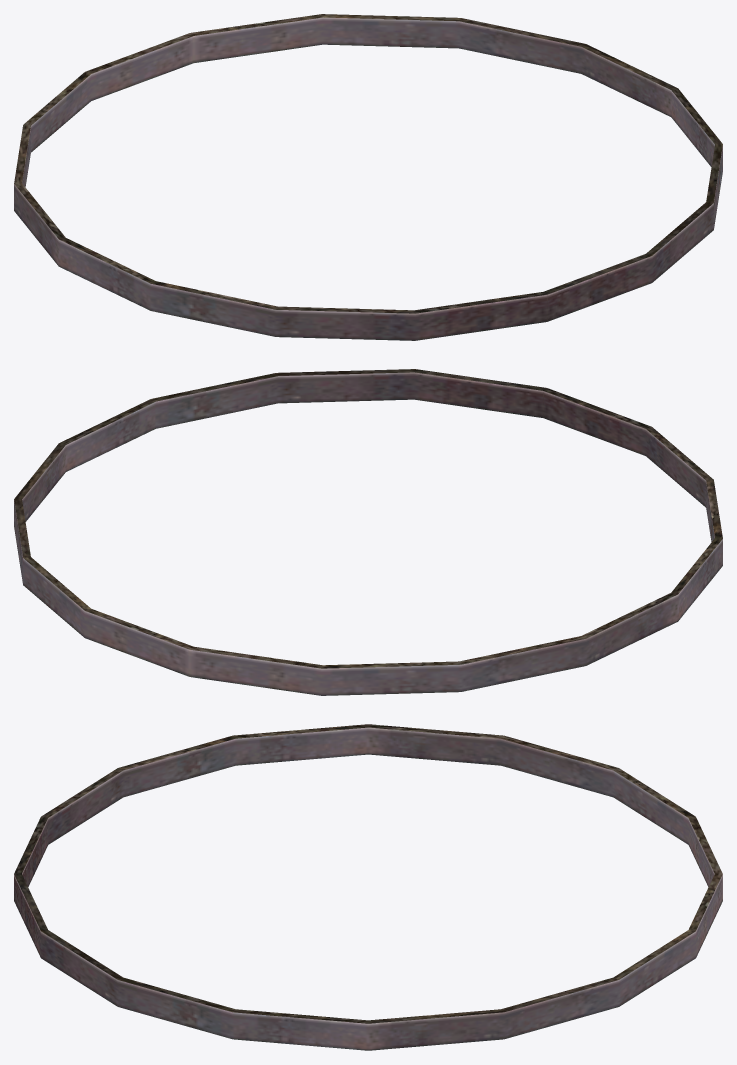
Rendered from flower_barrel_dead_p9.glb.
3 renders of one model, top to bottom at view 1: azimuth 30°, elevation 25°; view 2: azimuth 150°, elevation 25°; view 3: azimuth 270°, elevation 25°, orthographic.
Parts seen in each view (by area): view 1: flower_barrel_dead_p9; view 2: flower_barrel_dead_p9; view 3: flower_barrel_dead_p9.
Boxes of the visible parts, box(x1,y1,x2,y2) form: flower_barrel_dead_p9: box(14, 14, 722, 340); flower_barrel_dead_p9: box(14, 369, 722, 695); flower_barrel_dead_p9: box(14, 724, 722, 1050).
Bounding box in the file's own units: 0.7488 × 0.0315 × 0.7489.
Materials: 1 (1 with a texture image).
